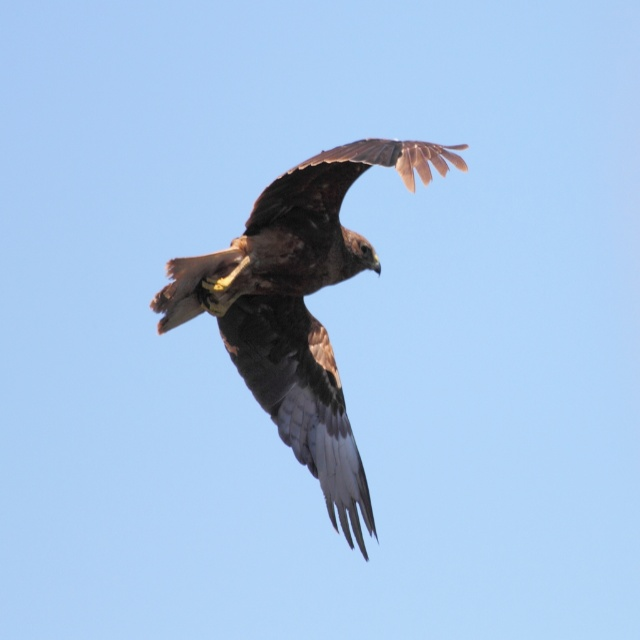Eagle: (149, 134, 470, 560)
